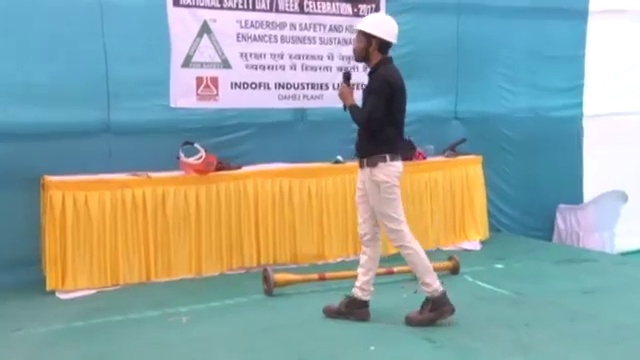helmet: (349, 11, 399, 46)
helmet_on: (348, 12, 401, 66)
person: (324, 12, 455, 328)
